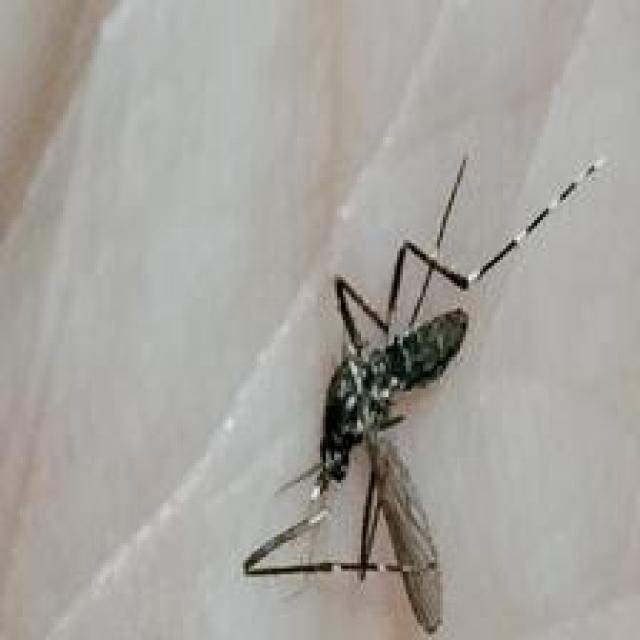Aedes albopictus: (240, 152, 606, 637)
